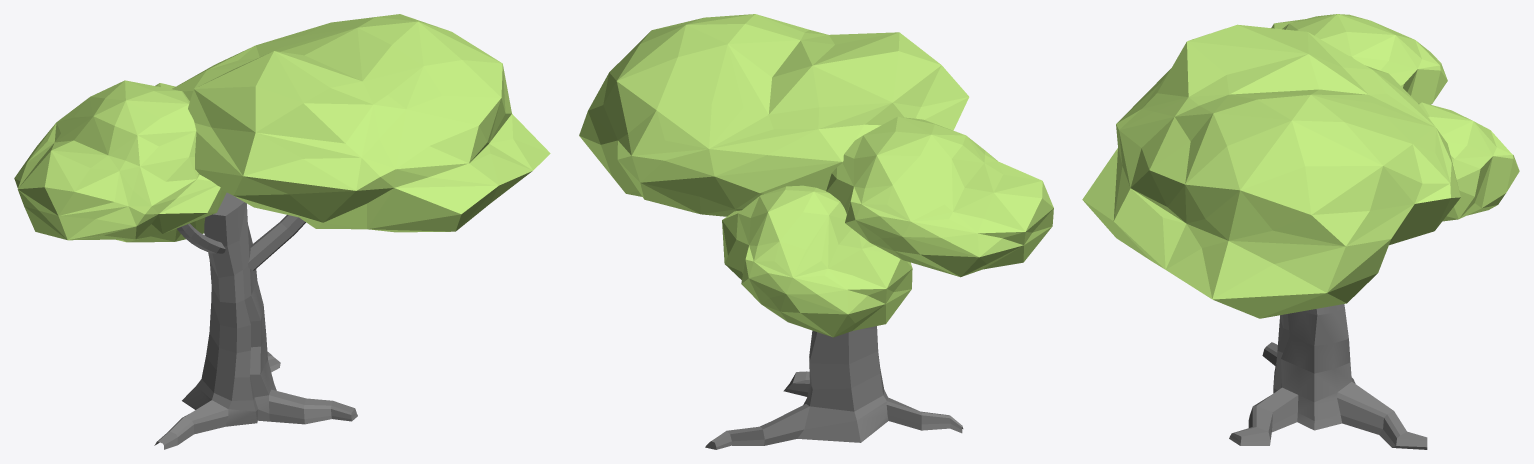
Rendered from arbre_petit_alt.fbx.
3 views of the same model, side by side, from view 1: azimuth 30°, elevation 25°; view 2: azimuth 150°, elevation 25°; view 3: azimuth 270°, elevation 25° (orthographic). The views are drawn at different scales.
Visible parts, largest first — view 1: arbre_petit_alt; view 2: arbre_petit_alt; view 3: arbre_petit_alt.
Part boxes in pixels (x1,y1,x2,y2): arbre_petit_alt: [14, 14, 550, 449]; arbre_petit_alt: [579, 14, 1053, 449]; arbre_petit_alt: [1082, 14, 1519, 449].
Bounding box in the file's own units: 132 × 97.18 × 103.
